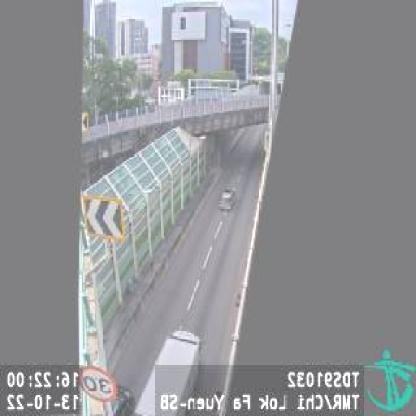Car: (219, 186, 234, 208)
